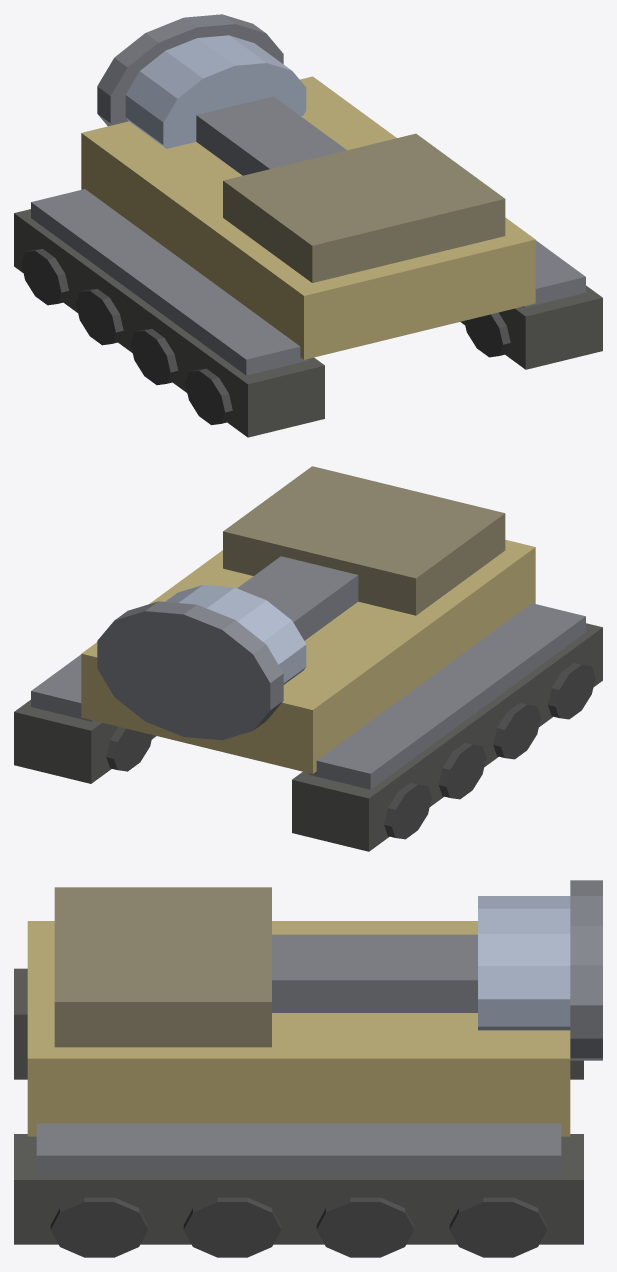
File: dm_disruptor.glb
The picture shows the model from 3 angles, top to bottom: view 1: azimuth 30°, elevation 25°; view 2: azimuth 150°, elevation 25°; view 3: azimuth 270°, elevation 25°; orthographic projection. The views are drawn at different scales.
Visible parts, largest first — view 1: hull; view 2: hull; view 3: hull.
Part boxes in pixels (left/top/right/bottom): hull: left=14, top=14, right=602, bottom=437; hull: left=14, top=466, right=602, bottom=851; hull: left=14, top=880, right=602, bottom=1257.
Bounding box in the file's own units: 0.8848 × 0.4715 × 1.
